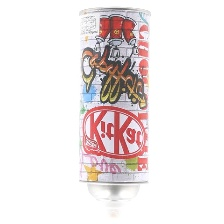aerosol_cans: (69, 2, 160, 223)
